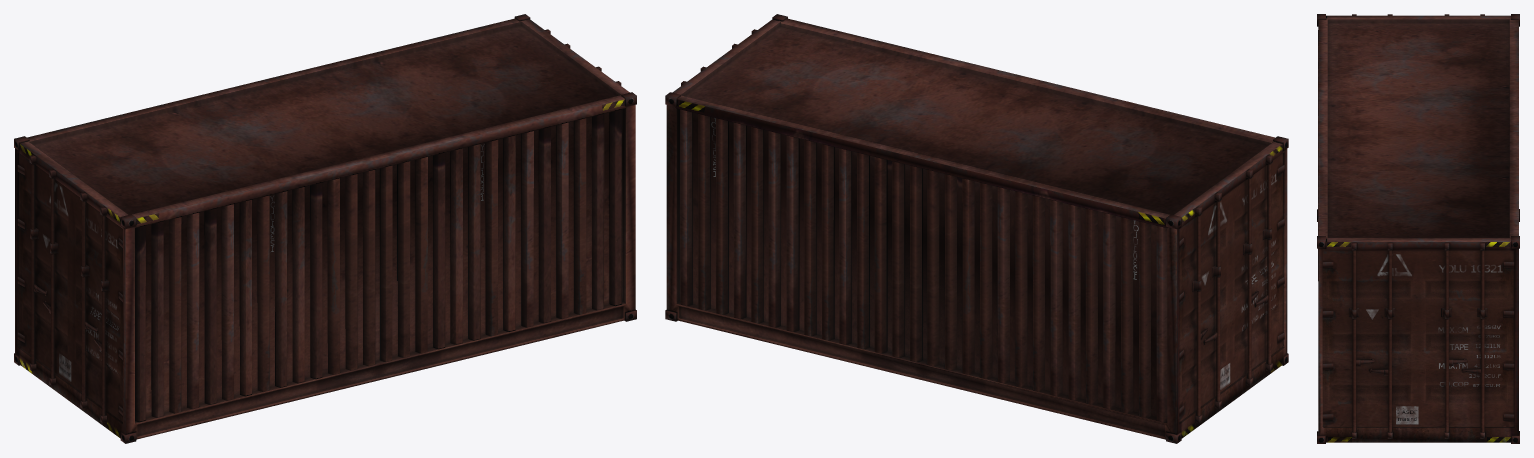
File: container.glb
3 renders of one model, left to right at view 1: azimuth 30°, elevation 25°; view 2: azimuth 150°, elevation 25°; view 3: azimuth 270°, elevation 25°, orthographic. The views are drawn at different scales.
Visible parts, largest first — view 1: container_001_Material_001__AO1_tga_0; view 2: container_001_Material_001__AO1_tga_0; view 3: container_001_Material_001__AO1_tga_0.
Part boxes in pixels (<box>): container_001_Material_001__AO1_tga_0: <box>14,14,636,443</box>; container_001_Material_001__AO1_tga_0: <box>665,14,1288,443</box>; container_001_Material_001__AO1_tga_0: <box>1317,14,1519,443</box>.
Size of the model in its own units: 360 by 148 by 134.
1 material, 1 textured.
